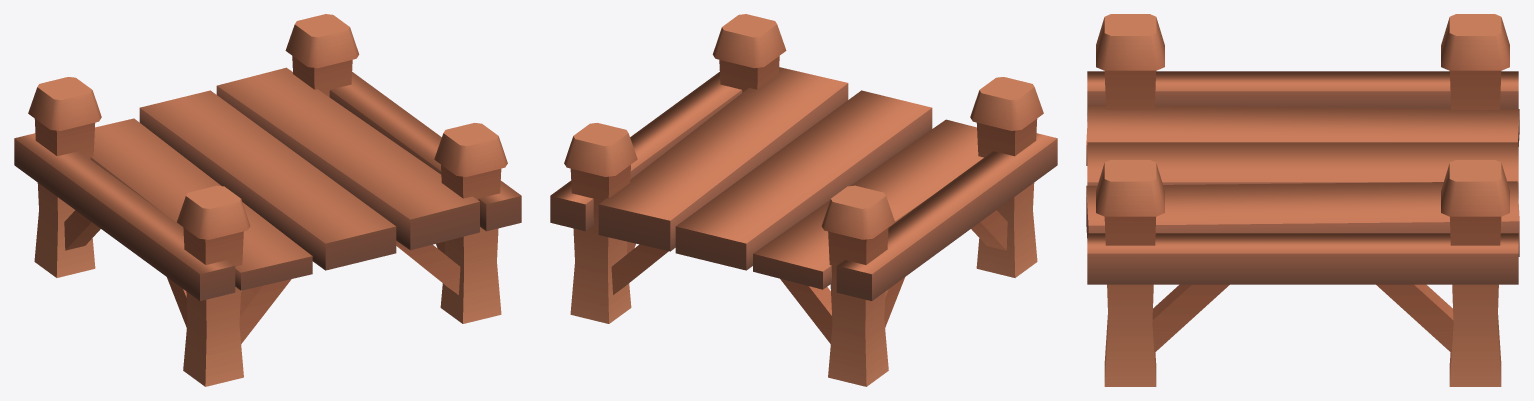
Rendered from structure-platform-dock.gltf.
3 renders of one model, left to right at view 1: azimuth 30°, elevation 25°; view 2: azimuth 150°, elevation 25°; view 3: azimuth 270°, elevation 25°, orthographic. The views are drawn at different scales.
Visible parts, largest first — view 1: structure-platform-dock; view 2: structure-platform-dock; view 3: structure-platform-dock.
Boxes of the visible parts, <box> form: structure-platform-dock: <box>14,14,521,386</box>; structure-platform-dock: <box>550,14,1057,386</box>; structure-platform-dock: <box>1086,14,1519,386</box>.
Size of the model in its own units: 2.5 by 1.31 by 2.51.
1 material, 1 textured.
